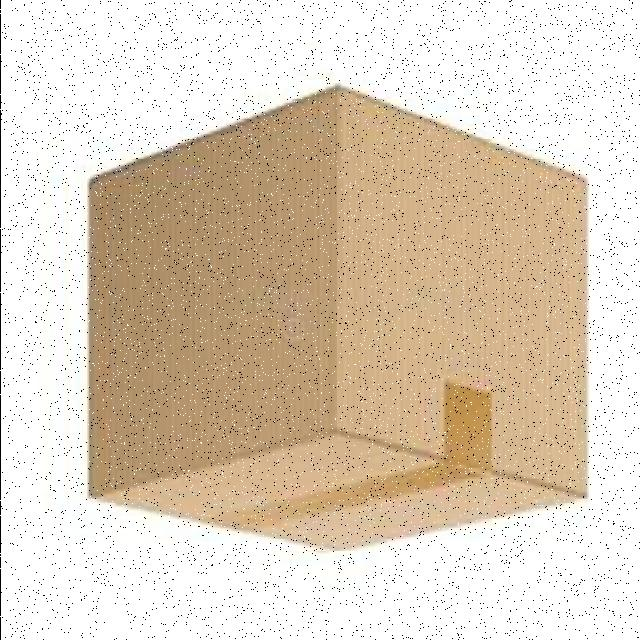normal: (68, 80, 589, 551)
